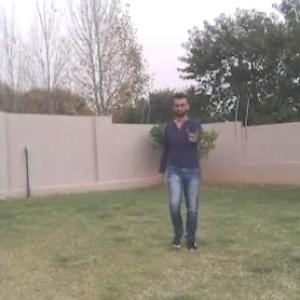takeoff-hand: (186, 120, 206, 150)
